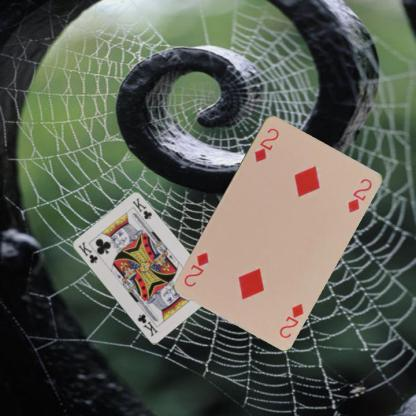2d: (276, 300, 305, 340), (251, 125, 280, 163)
Kc: (75, 239, 99, 265)
